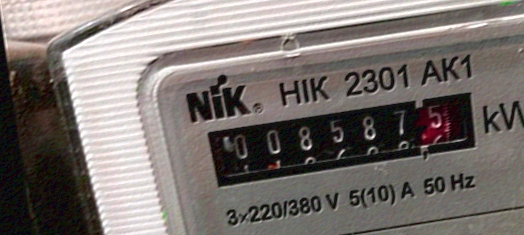0: (230, 131, 251, 162), (263, 127, 284, 157)
5: (426, 102, 447, 133), (327, 117, 347, 147)
7: (390, 106, 411, 139)
8: (358, 112, 379, 144), (295, 123, 315, 154)
screen: (187, 75, 498, 202)
